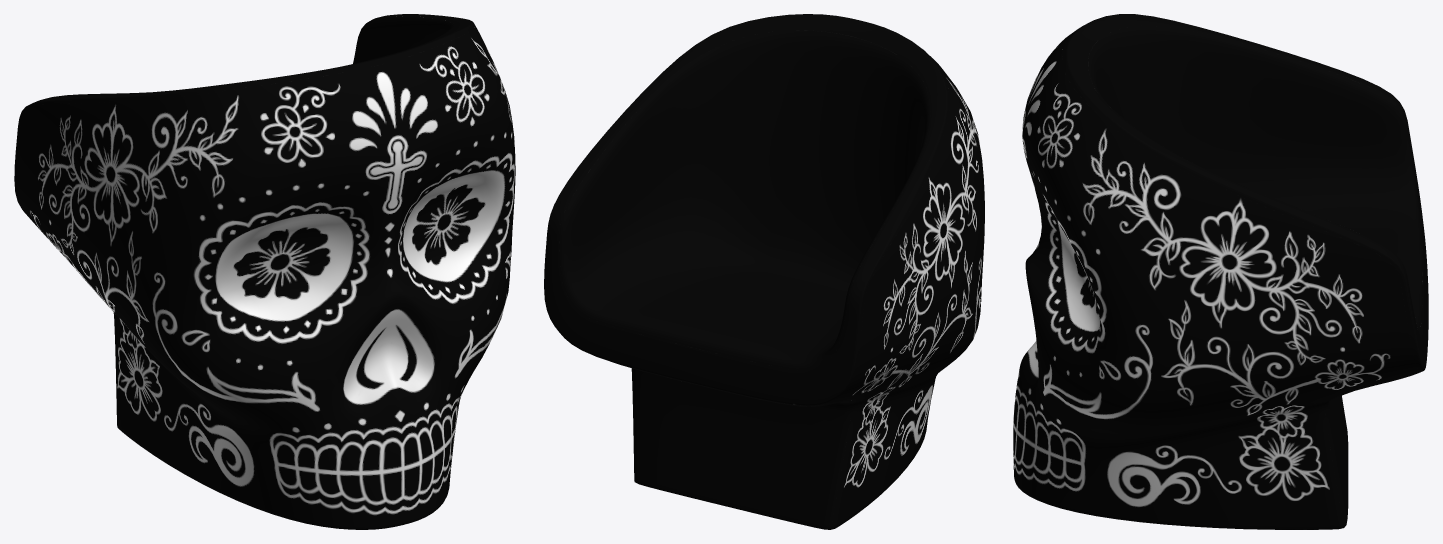
Rendered from Gufram_Jolly_Roger_mat(2).fbx.
The picture shows the model from 3 angles, left to right: view 1: azimuth 30°, elevation 25°; view 2: azimuth 150°, elevation 25°; view 3: azimuth 270°, elevation 25°; orthographic projection. The views are drawn at different scales.
Parts seen in each view (by area): view 1: Gufram_Jolly_Roger_mat2; view 2: Gufram_Jolly_Roger_mat2; view 3: Gufram_Jolly_Roger_mat2.
Boxes of the visible parts, bbox=[...] form: Gufram_Jolly_Roger_mat2: bbox=[14, 14, 515, 529]; Gufram_Jolly_Roger_mat2: bbox=[544, 14, 984, 529]; Gufram_Jolly_Roger_mat2: bbox=[1013, 14, 1428, 529].
Size of the model in its own units: 73.28 by 75.72 by 84.9.
1 material, 1 textured.
